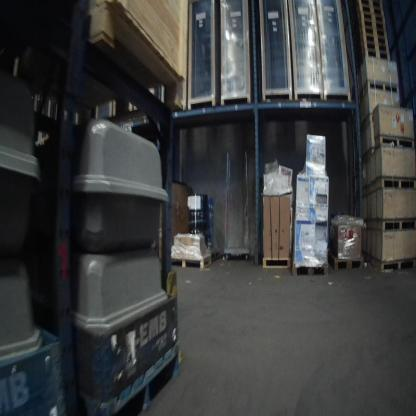pallet: (91, 341, 186, 416), (363, 176, 415, 199), (330, 251, 364, 271), (377, 133, 415, 150), (364, 219, 416, 231)
